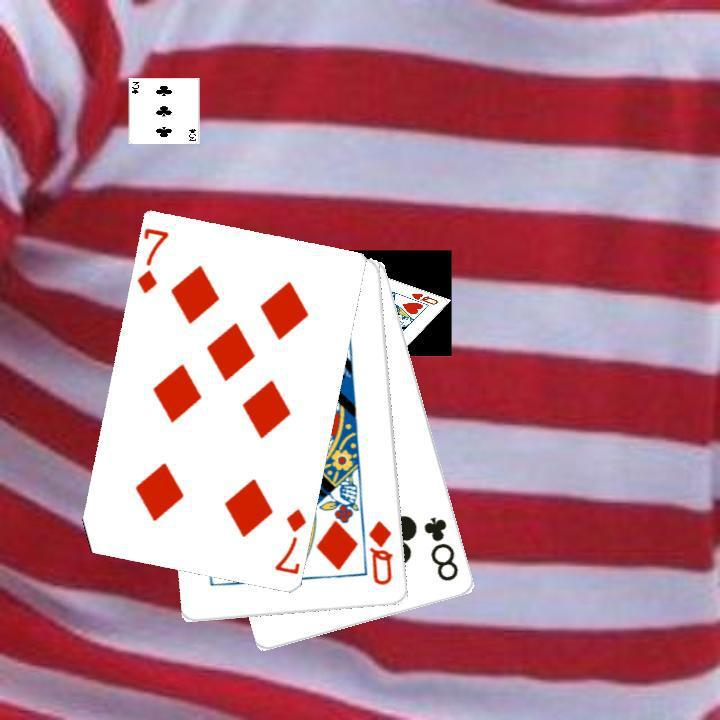7: (270, 504, 308, 576), (134, 225, 171, 297)
8: (419, 512, 461, 584)
Q: (364, 516, 395, 588)
